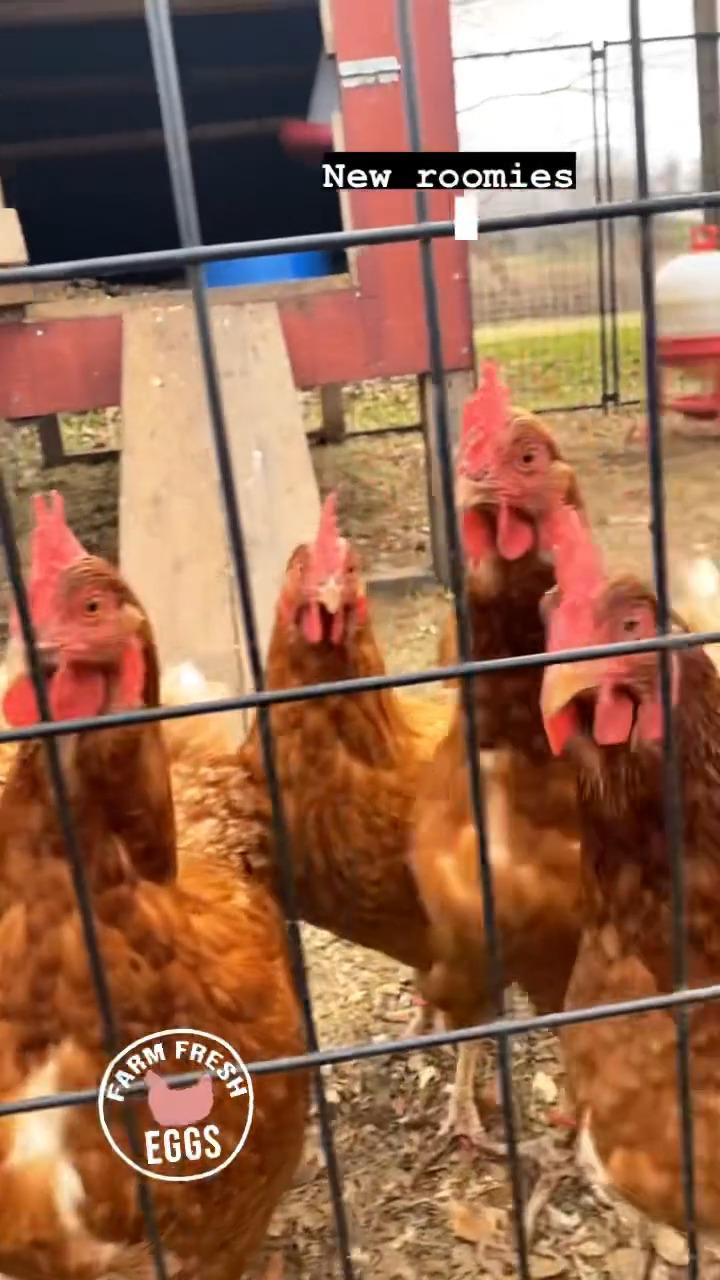rooster: (401, 360, 719, 1217), (0, 488, 312, 1279), (536, 498, 719, 1259), (239, 490, 465, 1080), (0, 648, 241, 814)
